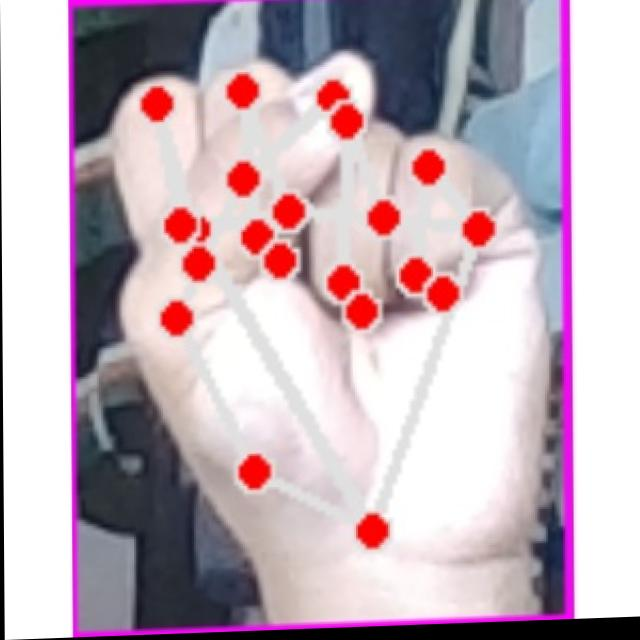S: (109, 12, 554, 577)
